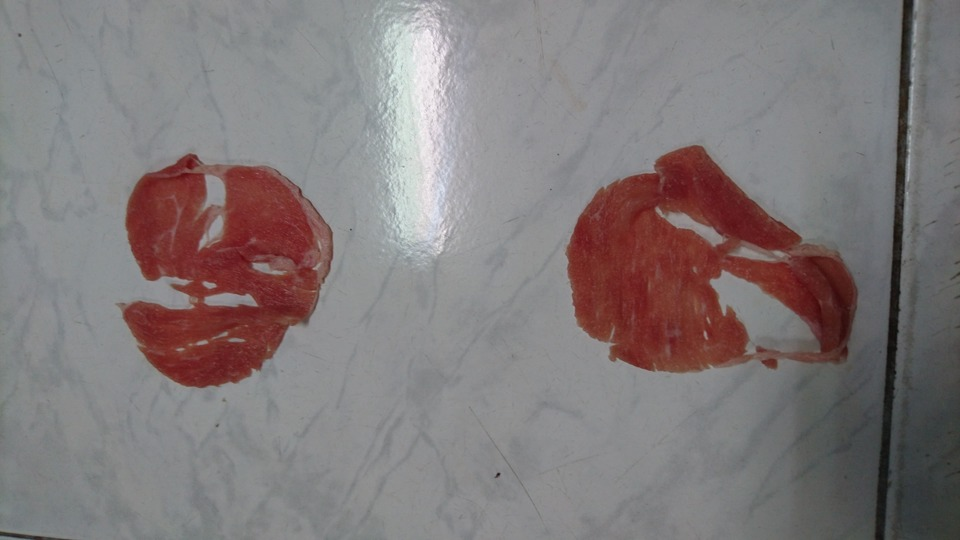restructured meat: (568, 120, 875, 383), (117, 156, 346, 397)
